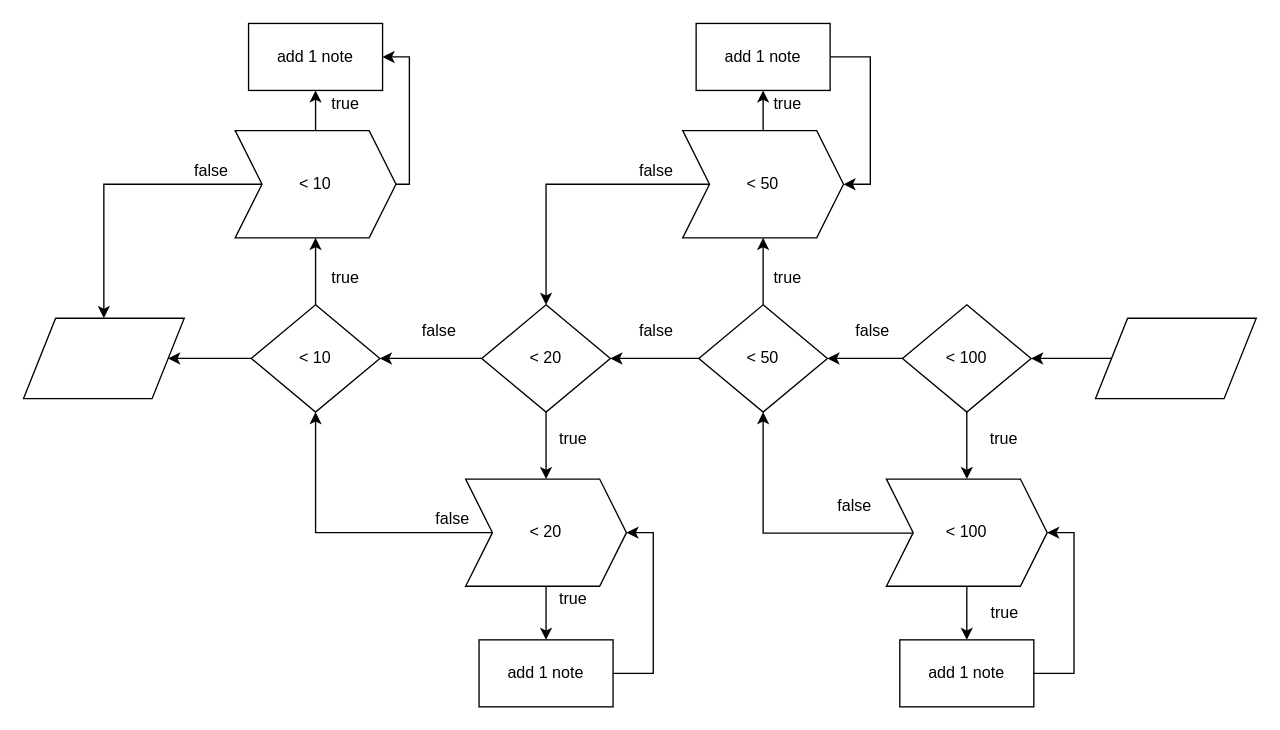
The diagram is 1280 pixels wide and 730 high, and some of its shapes have lost their labels. Each missing label, with the centre of its shape:
atm output: the point at 103,358
user input: the point at 1175,358
